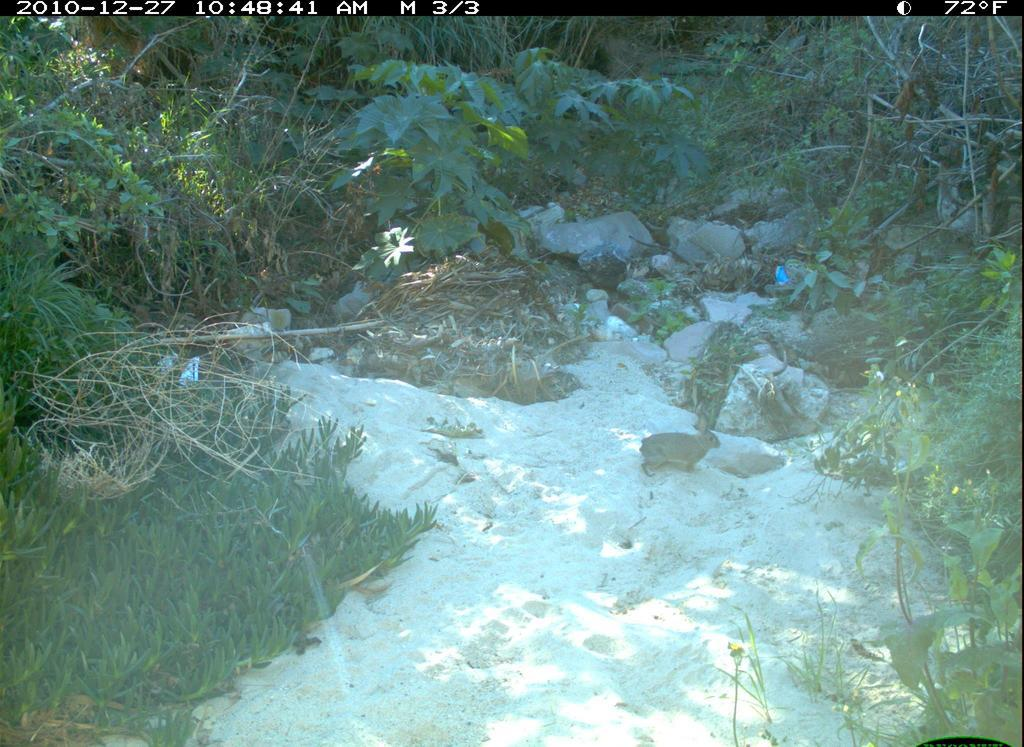rabbit: (635, 410, 724, 480)
